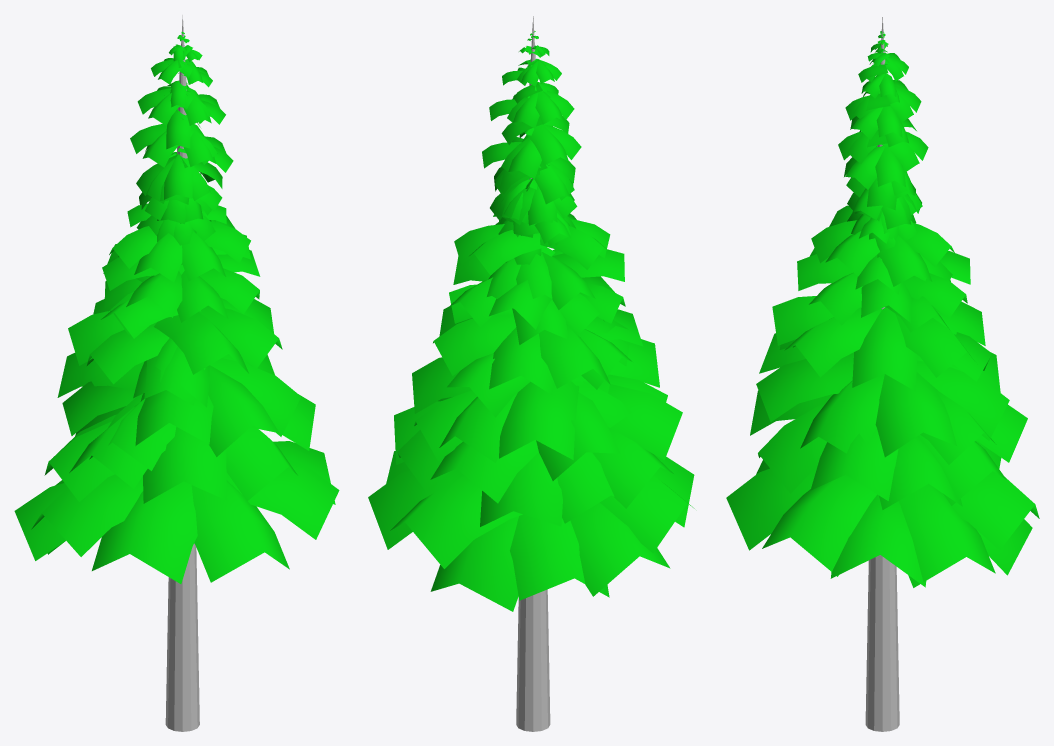
Rendered from _gac3.FBX.
3 views of the same model, side by side, from view 1: azimuth 30°, elevation 25°; view 2: azimuth 150°, elevation 25°; view 3: azimuth 270°, elevation 25° (orthographic).
Visible parts, largest first — view 1: Object002; view 2: Object002; view 3: Object002.
Boxes of the visible parts, x1,y1,x2,y2 form: Object002: (14, 15, 339, 731); Object002: (368, 16, 694, 731); Object002: (726, 17, 1039, 731).
Size of the model in its own units: 14.59 by 34.41 by 13.76.
